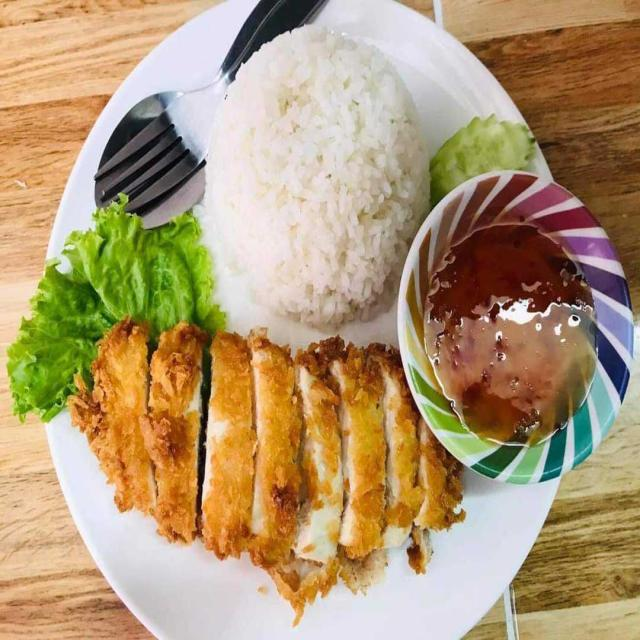Carbohydrate: (203, 24, 430, 329)
Kaow-Mankai: (7, 0, 627, 640)
Protein: (69, 316, 467, 626)
Vegetable: (4, 196, 222, 392)
